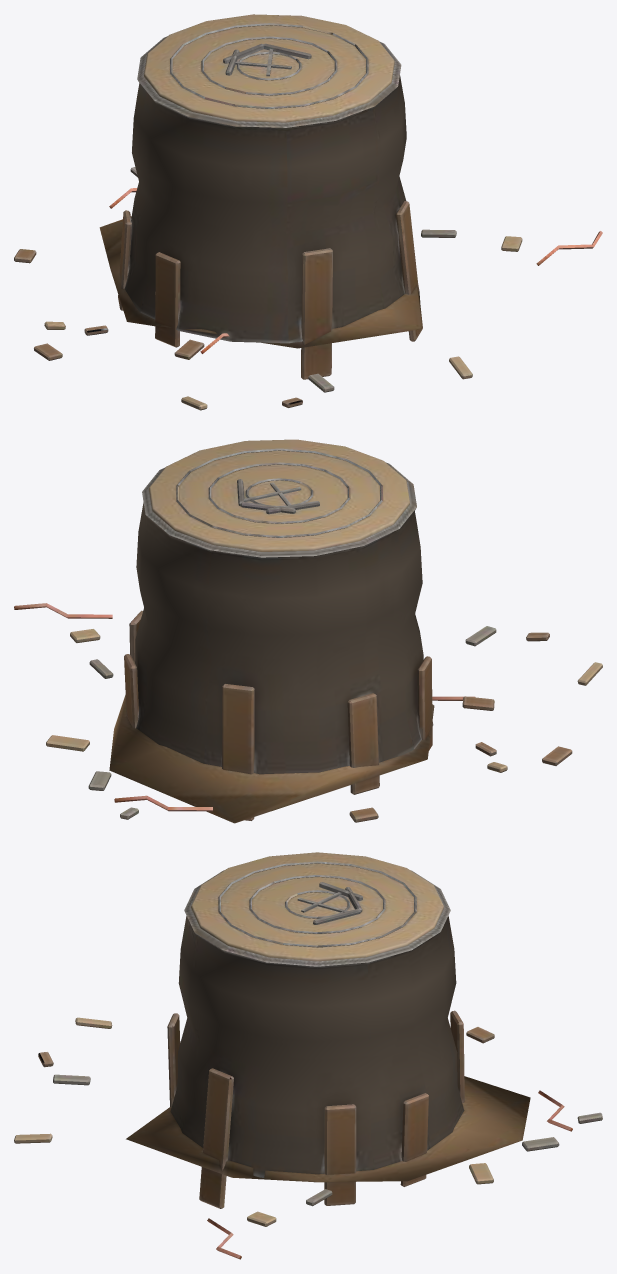
The model's file is chop_block.glb.
3 renders of one model, top to bottom at view 1: azimuth 30°, elevation 25°; view 2: azimuth 150°, elevation 25°; view 3: azimuth 270°, elevation 25°, orthographic. The views are drawn at different scales.
Parts seen in each view (by area): view 1: chop_block; view 2: chop_block; view 3: chop_block.
Boxes of the visible parts, x1=… form: chop_block: x1=14, y1=14, x2=602, y2=410; chop_block: x1=14, y1=439, x2=602, y2=823; chop_block: x1=14, y1=852, x2=602, y2=1259.
Size of the model in its own units: 1.39 by 0.6292 by 1.3.
Materials: 1 (1 with a texture image).
